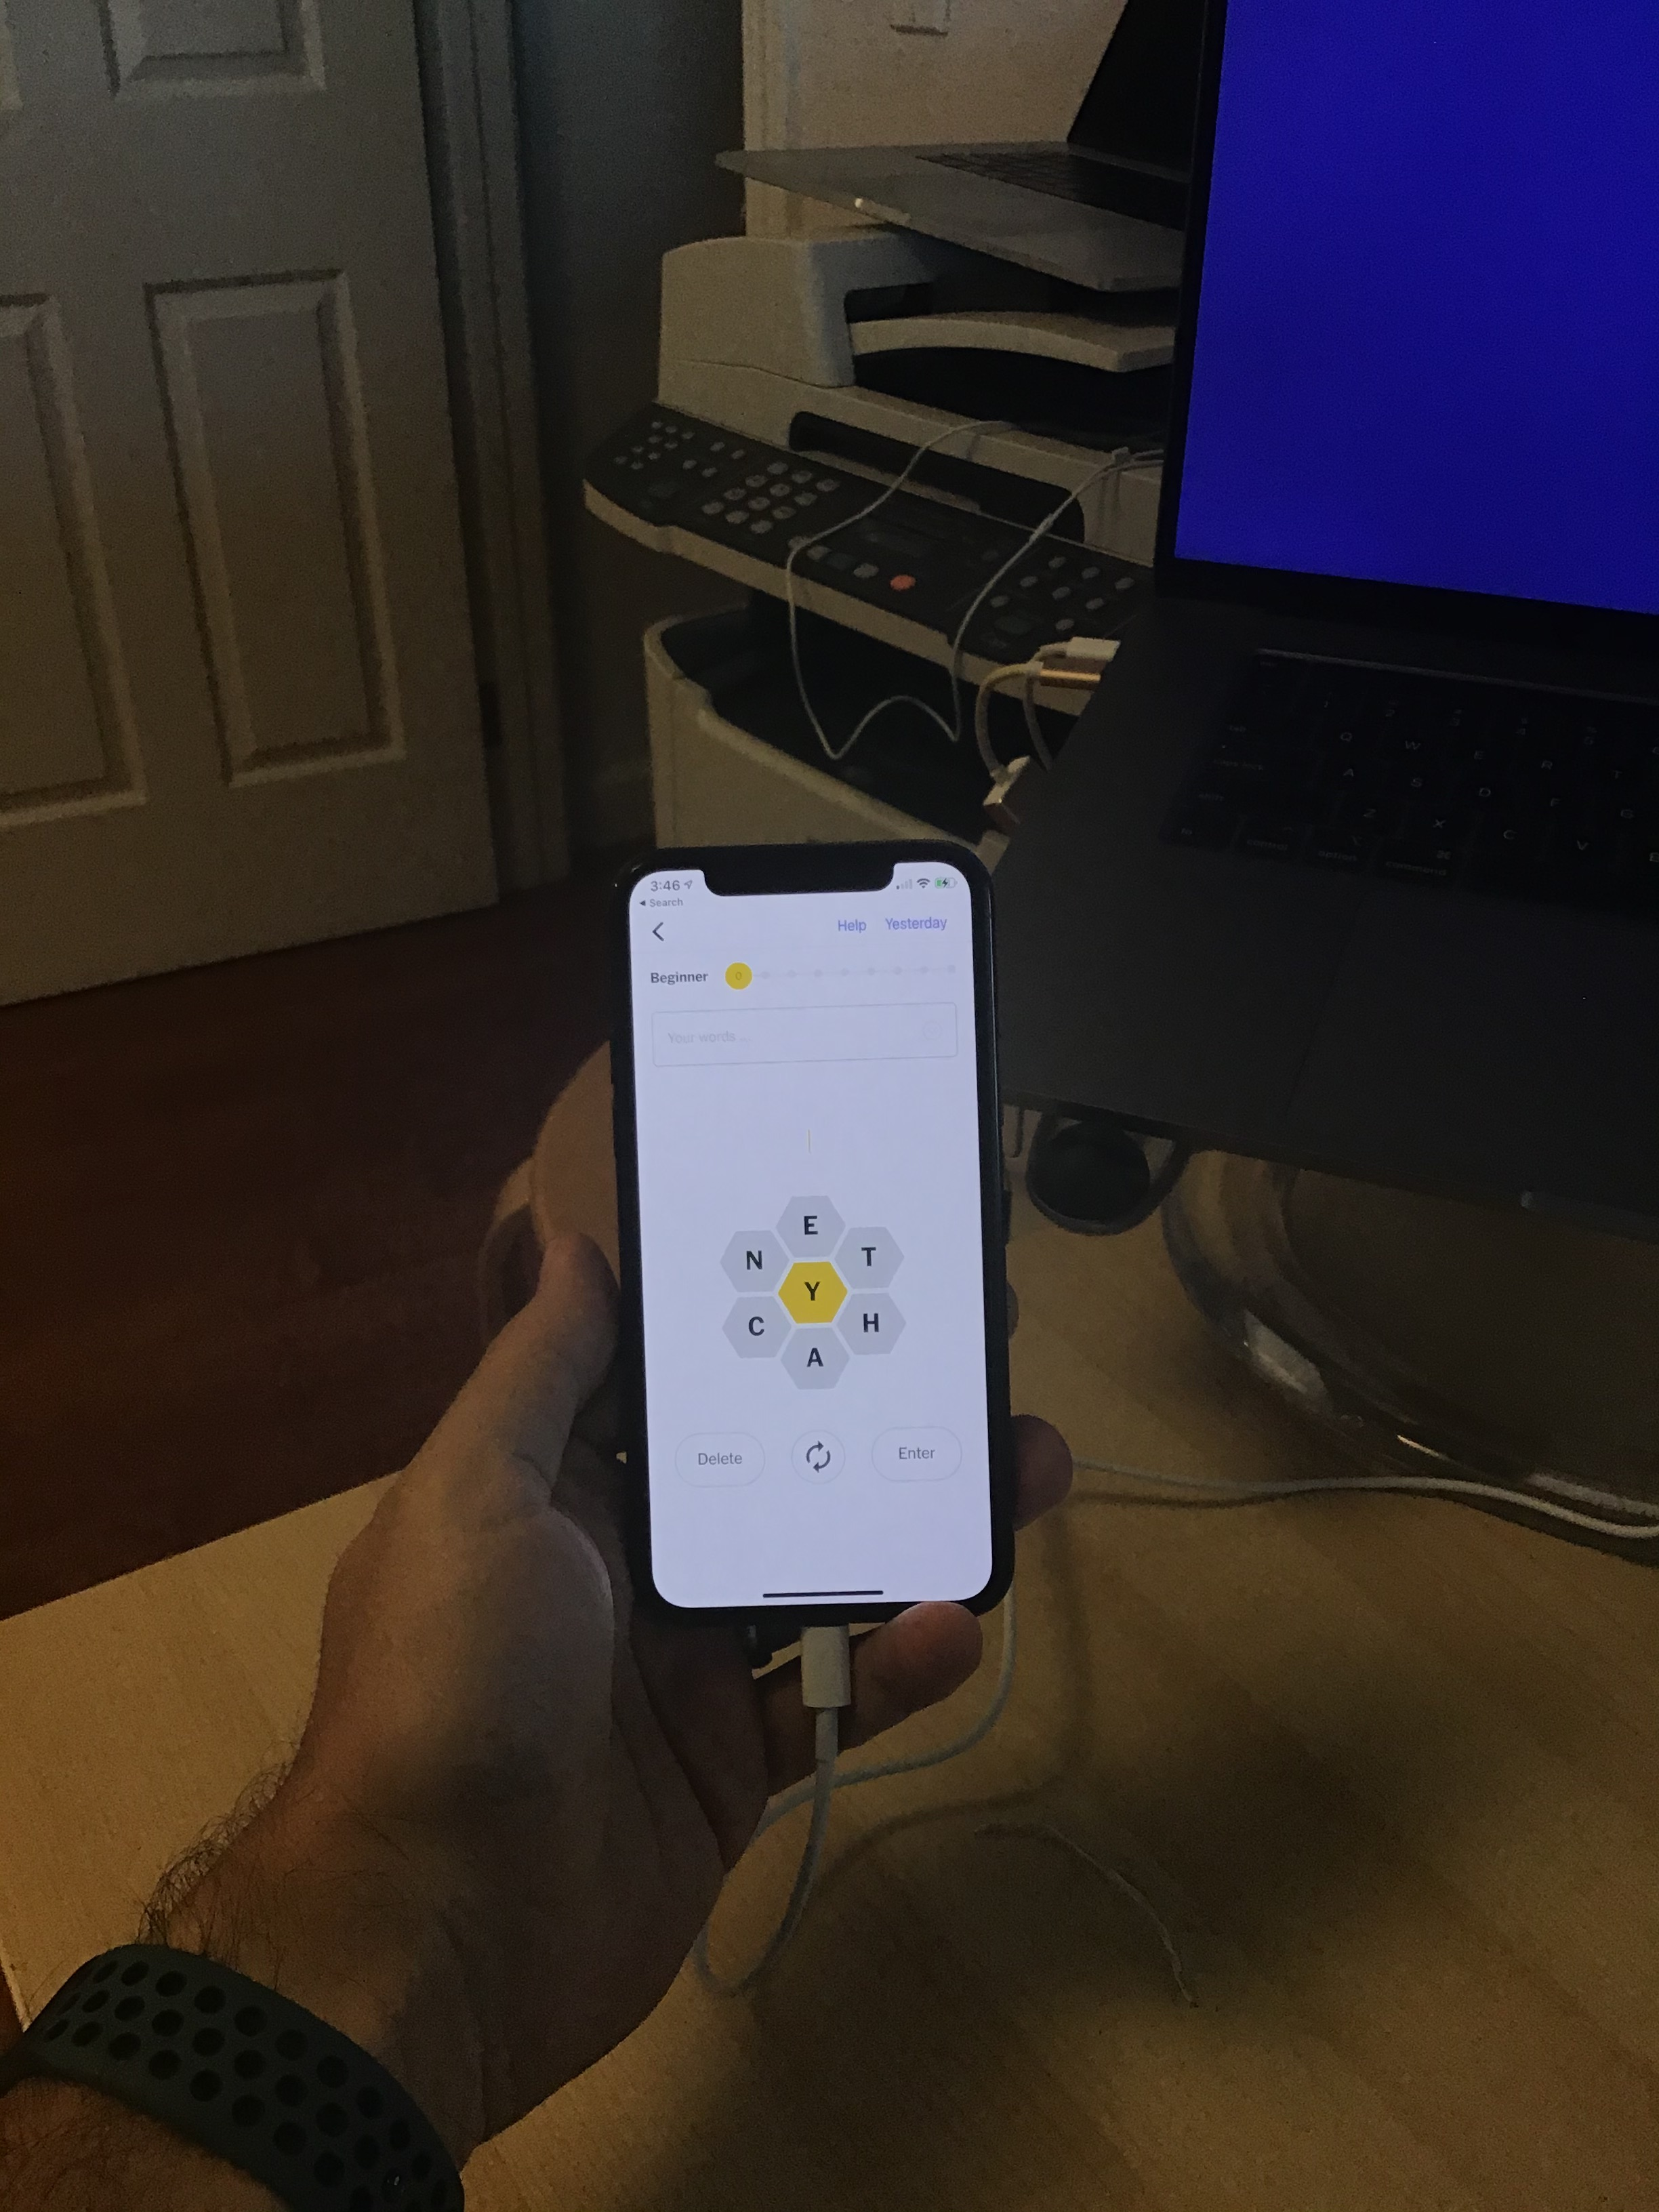Board: (688, 1188, 931, 1402)
